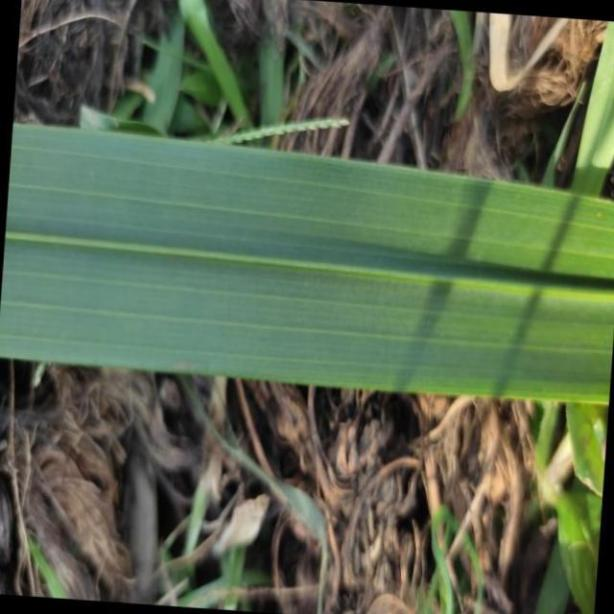Healthy: (5, 118, 614, 403)
